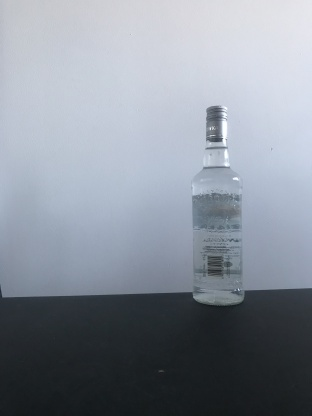nakretka: (204, 102, 229, 142)
